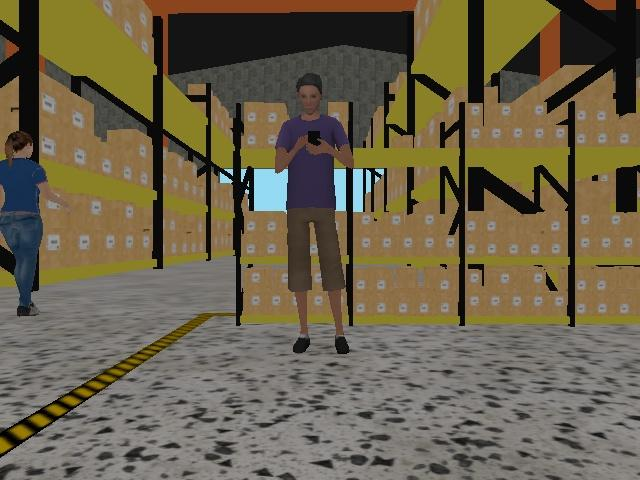person: (273, 70, 357, 360), (0, 128, 76, 319)
